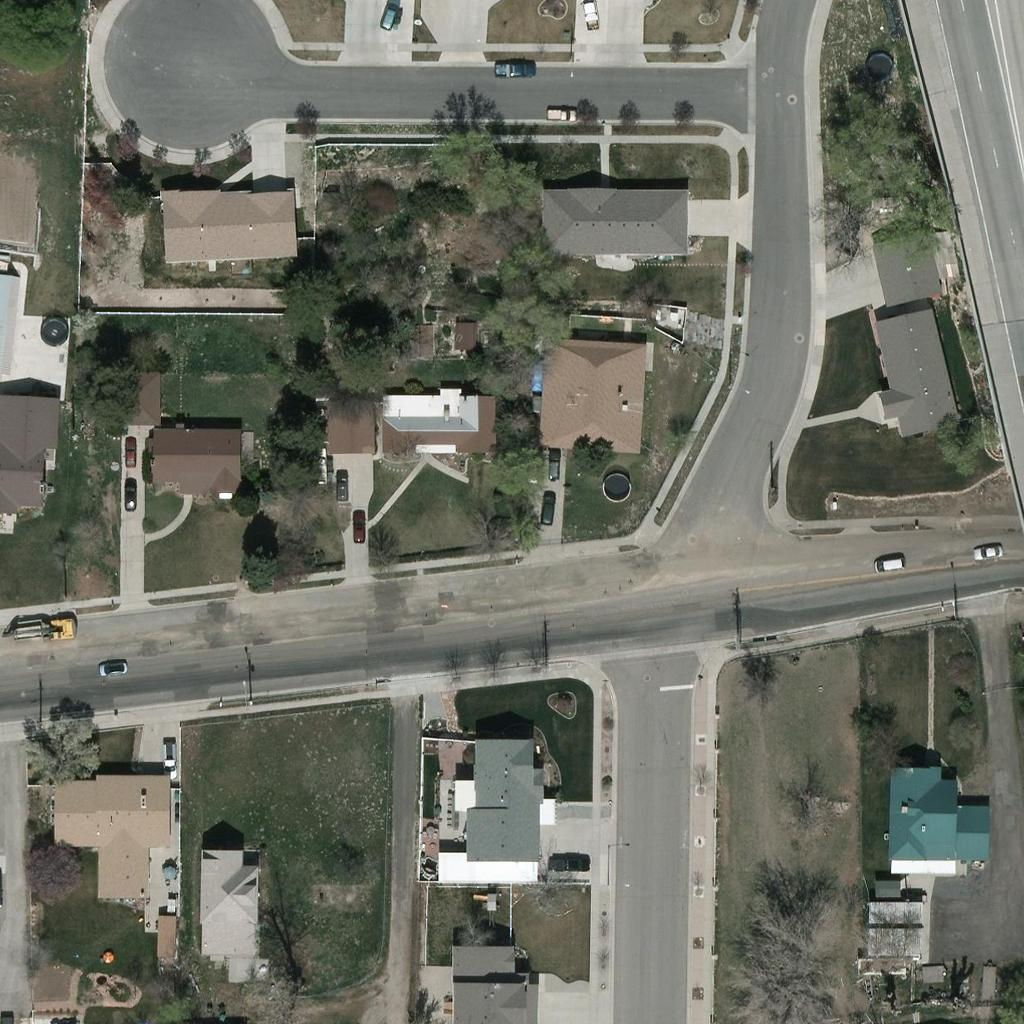car: (498, 52, 532, 86), (545, 96, 579, 130), (113, 436, 147, 470), (535, 449, 569, 483), (299, 450, 333, 484), (324, 469, 358, 503), (112, 476, 146, 510), (530, 492, 564, 526), (342, 510, 376, 544), (972, 533, 1006, 567), (870, 547, 904, 581), (93, 650, 127, 684), (150, 744, 184, 778), (554, 845, 588, 879), (371, 0, 405, 31), (571, 0, 605, 24)
